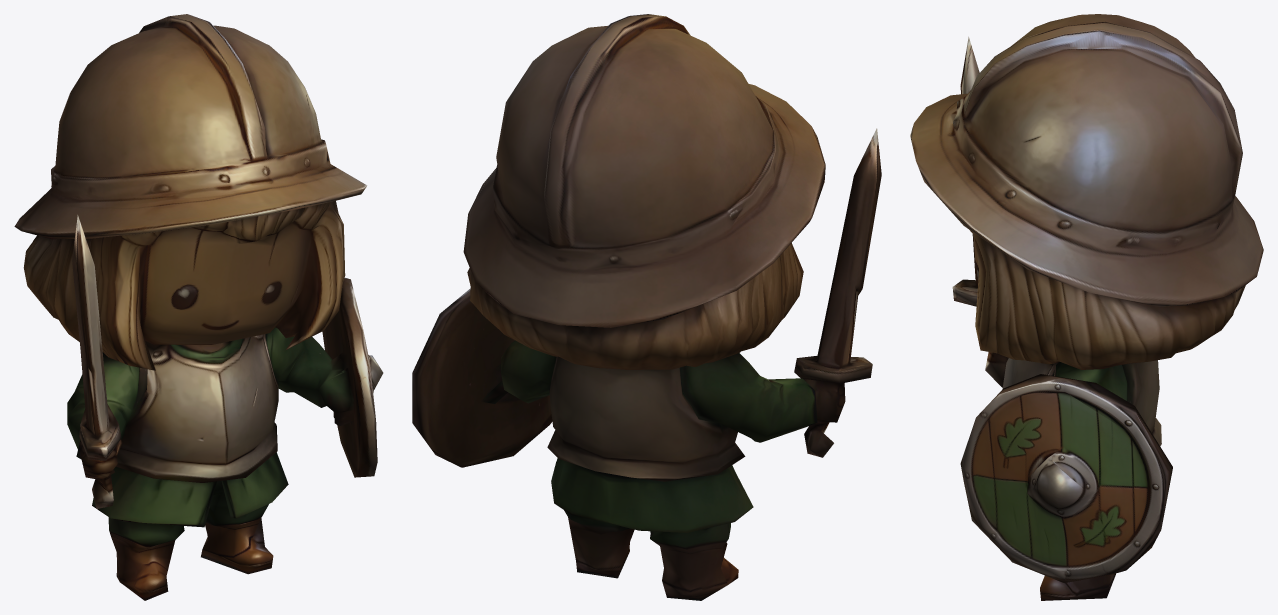
File: GuardFemale.glb
3 renders of one model, left to right at view 1: azimuth 30°, elevation 25°; view 2: azimuth 150°, elevation 25°; view 3: azimuth 270°, elevation 25°, orthographic. The views are drawn at different scales.
Visible parts, largest first — view 1: tripo_node_30c44b89-635c-4f5f-8853-25613807019a; view 2: tripo_node_30c44b89-635c-4f5f-8853-25613807019a; view 3: tripo_node_30c44b89-635c-4f5f-8853-25613807019a.
Part boxes in pixels (x1,y1,x2,y2): tripo_node_30c44b89-635c-4f5f-8853-25613807019a: [14, 14, 383, 600]; tripo_node_30c44b89-635c-4f5f-8853-25613807019a: [412, 14, 881, 600]; tripo_node_30c44b89-635c-4f5f-8853-25613807019a: [910, 14, 1263, 600].
Bounding box in the file's own units: 0.6824 × 0.9798 × 0.567.
1 material, 1 textured.
